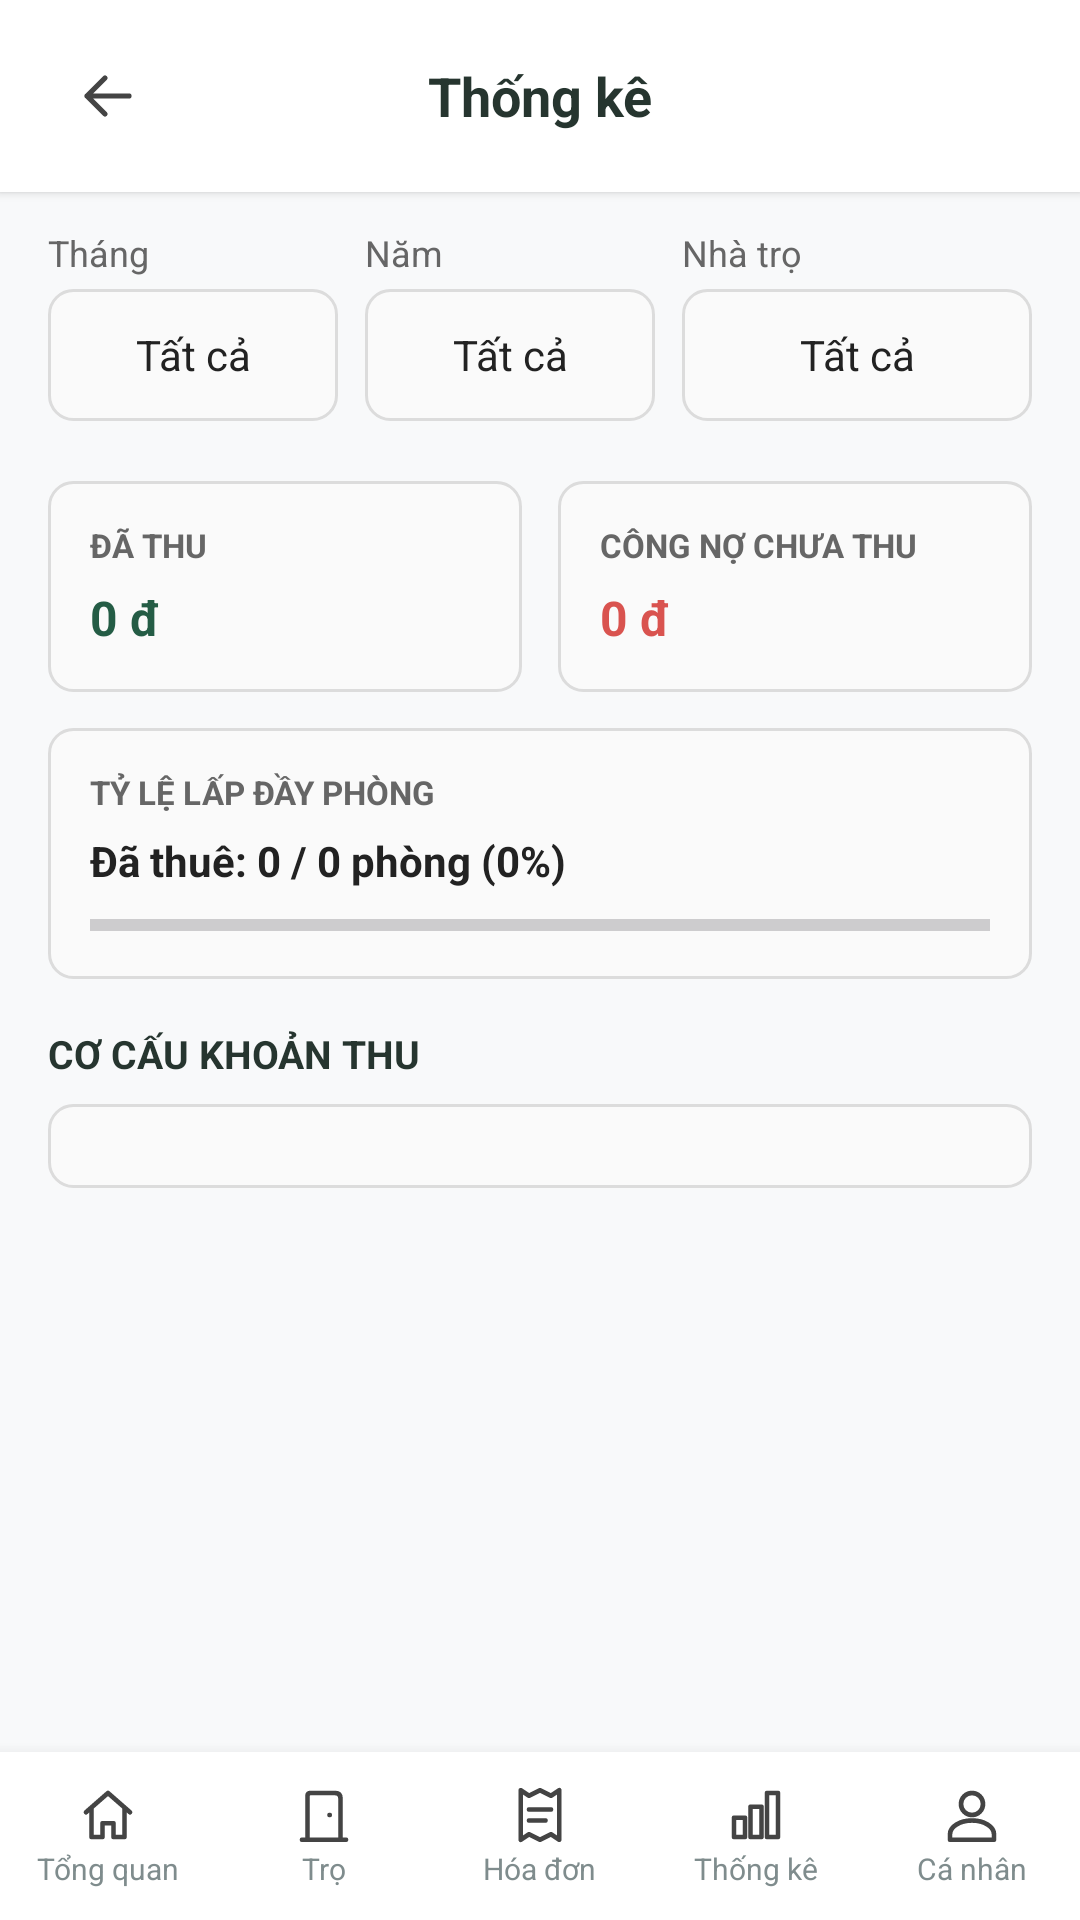

Icon bounding boxes for this 1080×1920 phone screenshot, format {"x1": x1, "y1": y1, "x2": x2, "y2": y2}:
Quay lại: {"x1": 84, "y1": 75, "x2": 132, "y2": 117}
